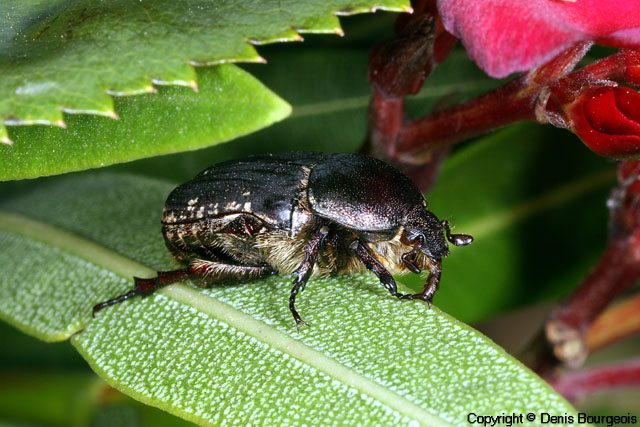Protaetia_oblonga: (87, 150, 476, 322)
